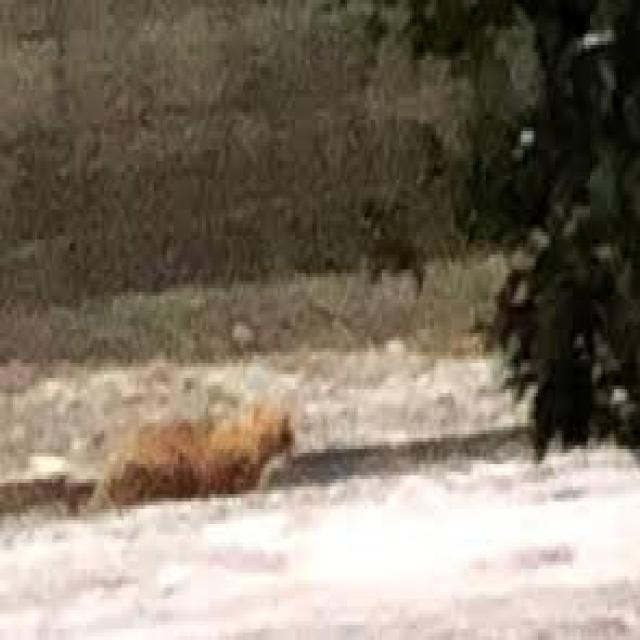Jaguar: (65, 396, 299, 516)
